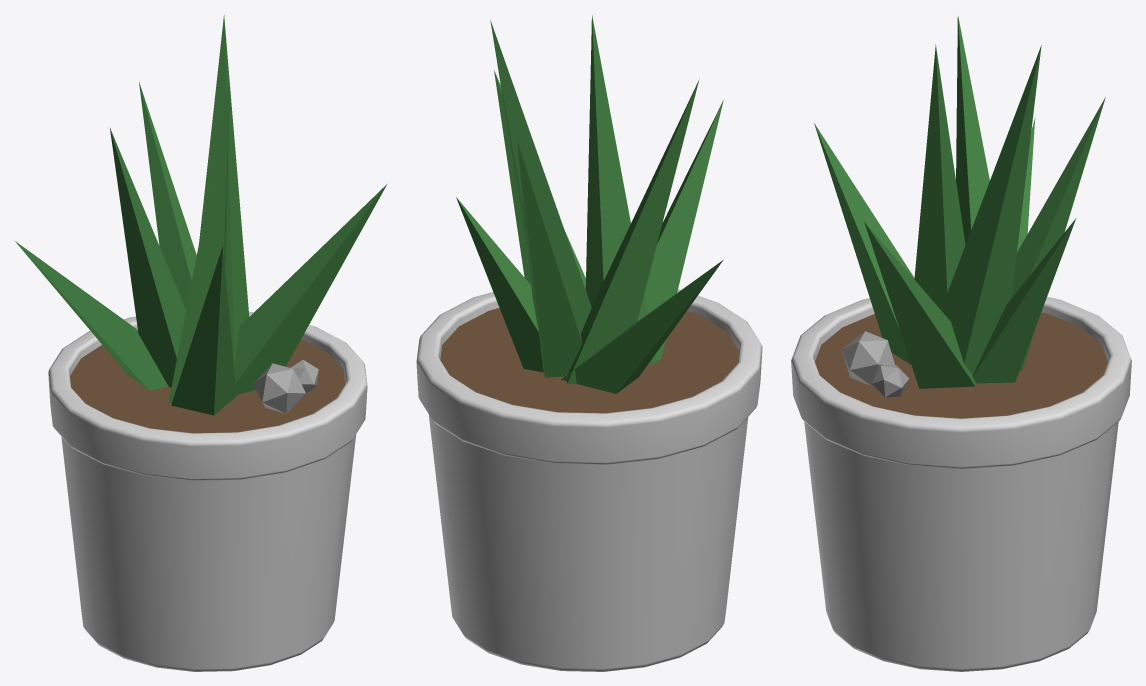
The model's file is PottedPlant.fbx.
3 renders of one model, left to right at view 1: azimuth 30°, elevation 25°; view 2: azimuth 150°, elevation 25°; view 3: azimuth 270°, elevation 25°, orthographic. The views are drawn at different scales.
Parts seen in each view (by area): view 1: PottedPlant, Dirt, Leaf_03, Leaf_05, Leaf_02, Leaf_08, Leaf_06, Leaf_04, Leaf_07, Rock_01, Rock_02; view 2: PottedPlant, Dirt, Leaf_05, Leaf_06, Leaf_07, Leaf_08, Leaf_04, Leaf_02, Leaf_01, Leaf_03; view 3: PottedPlant, Dirt, Leaf_08, Leaf_06, Leaf_03, Leaf_01, Leaf_02, Leaf_07, Leaf_05, Rock_01, Rock_02, Leaf_04.
Boxes of the visible parts, left/top/right/bottom form: PottedPlant: left=48, top=311, right=367, bottom=671; Dirt: left=70, top=339, right=345, bottom=433; Leaf_03: left=234, top=184, right=387, bottom=394; Leaf_05: left=109, top=127, right=186, bottom=387; Leaf_02: left=171, top=246, right=236, bottom=415; Leaf_08: left=199, top=15, right=249, bottom=368; Leaf_06: left=168, top=84, right=229, bottom=403; Leaf_04: left=15, top=241, right=168, bottom=389; Leaf_07: left=139, top=82, right=196, bottom=309; Rock_01: left=253, top=363, right=305, bottom=413; Rock_02: left=290, top=360, right=318, bottom=392; PottedPlant: left=416, top=289, right=762, bottom=671; Dirt: left=440, top=308, right=738, bottom=413; Leaf_05: left=567, top=79, right=699, bottom=383; Leaf_06: left=585, top=15, right=656, bottom=363; Leaf_07: left=517, top=140, right=582, bottom=377; Leaf_08: left=490, top=20, right=591, bottom=333; Leaf_04: left=561, top=259, right=723, bottom=393; Leaf_02: left=644, top=100, right=723, bottom=360; Leaf_01: left=456, top=197, right=565, bottom=376; Leaf_03: left=494, top=70, right=585, bottom=289; PottedPlant: left=791, top=296, right=1131, bottom=671; Dirt: left=815, top=312, right=1107, bottom=418; Leaf_08: left=941, top=45, right=1041, bottom=374; Leaf_06: left=914, top=44, right=965, bottom=309; Leaf_03: left=864, top=222, right=976, bottom=388; Leaf_01: left=972, top=218, right=1076, bottom=383; Leaf_02: left=814, top=123, right=914, bottom=364; Leaf_07: left=1011, top=97, right=1105, bottom=371; Leaf_05: left=956, top=16, right=989, bottom=244; Rock_01: left=842, top=331, right=894, bottom=386; Rock_02: left=872, top=365, right=909, bottom=397; Leaf_04: left=1017, top=117, right=1035, bottom=251.
Size of the model in its own units: 1.82 by 3.3 by 1.7.
